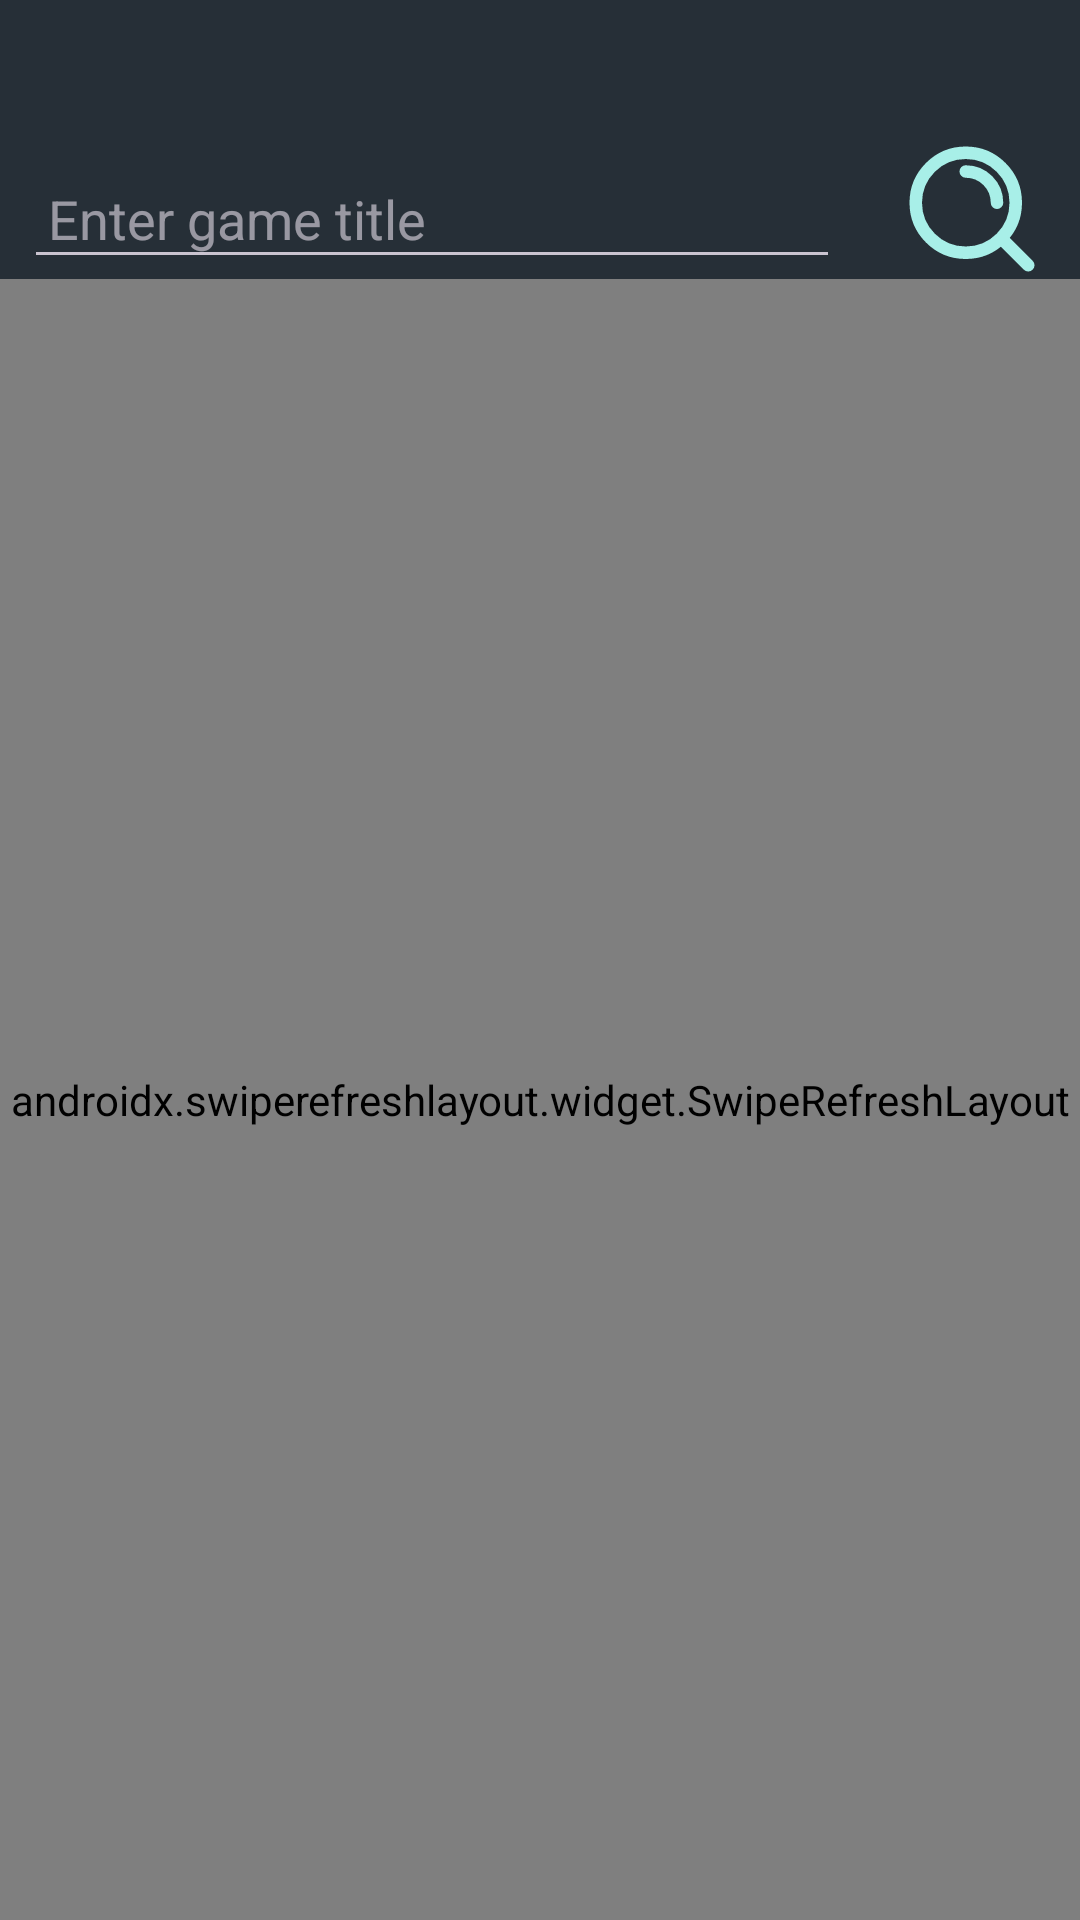

Named icons in this screenshot (1080 × 1920) and their bounding boxes, box(x1, y1, x2, y2):
Search for games: box(909, 146, 1035, 272)
